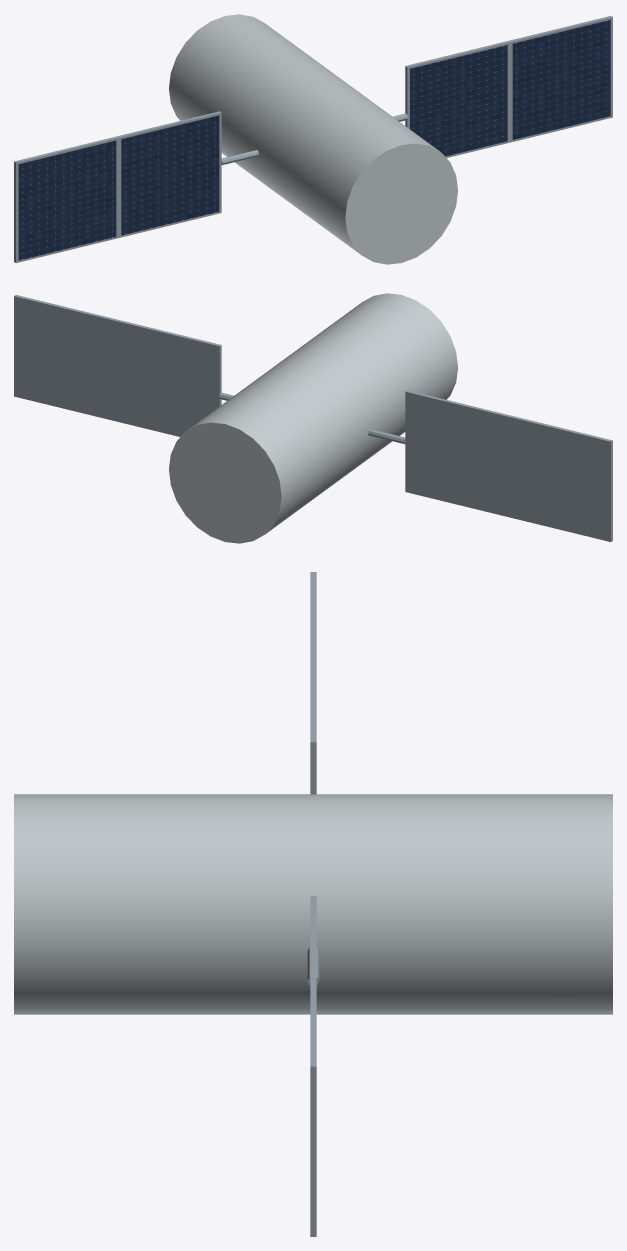
The model's file is ref-meteor-3-16191.glb.
3 renders of one model, top to bottom at view 1: azimuth 30°, elevation 25°; view 2: azimuth 150°, elevation 25°; view 3: azimuth 270°, elevation 25°, orthographic. The views are drawn at different scales.
Parts seen in each view (by area): view 1: Spacecraft body, Photovoltaic laminates (×4), Array frame (×4); view 2: Array frame (×4), Spacecraft body; view 3: Spacecraft body, Array frame (×2).
Part boxes in pixels (x1,y1,x2,y2): Spacecraft body: [169, 14, 457, 264]; Photovoltaic laminates (×4): [18, 20, 610, 260]; Array frame (×4): [14, 16, 612, 262]; Array frame (×4): [14, 295, 612, 541]; Spacecraft body: [169, 293, 457, 543]; Spacecraft body: [14, 794, 612, 1014]; Array frame (×2): [310, 657, 316, 1236].
Size of the model in its own units: 12.7 by 2.4 by 6.5.
Materials: 3 (1 with a texture image).
